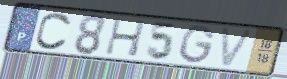5: (144, 20, 179, 61)
8: (73, 12, 107, 57)
C: (34, 11, 75, 52)
G: (178, 23, 217, 65)
H: (103, 17, 148, 59)
V: (219, 26, 257, 69)
